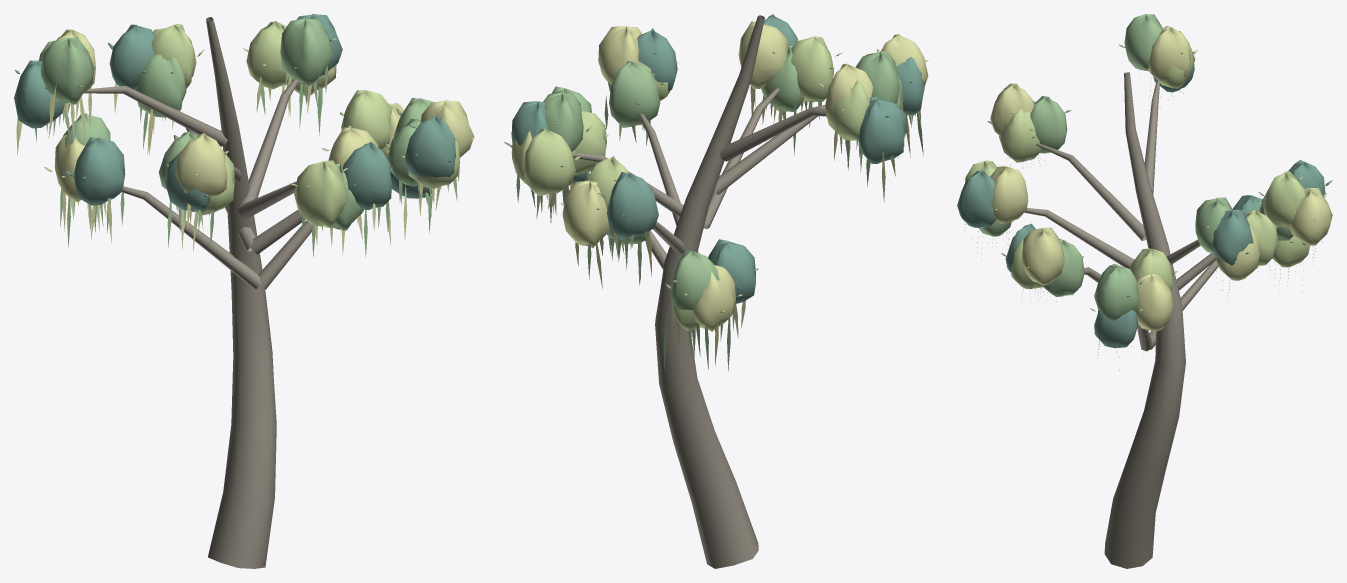
The model's file is willow_river.glb.
3 views of the same model, side by side, from view 1: azimuth 30°, elevation 25°; view 2: azimuth 150°, elevation 25°; view 3: azimuth 270°, elevation 25° (orthographic). The views are drawn at different scales.
Visible parts, largest first — view 1: willow_river; view 2: willow_river; view 3: willow_river.
Part boxes in pixels (x1,y1,x2,y2): willow_river: (14,14,474,568); willow_river: (504,14,928,568); willow_river: (957,14,1332,568).
Bounding box in the file's own units: 5.76 × 7.77 × 5.52.
